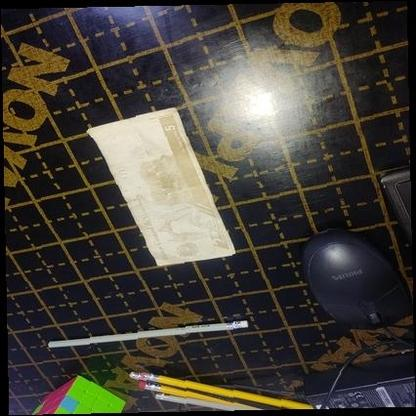five-back-vef: (85, 107, 235, 266)
